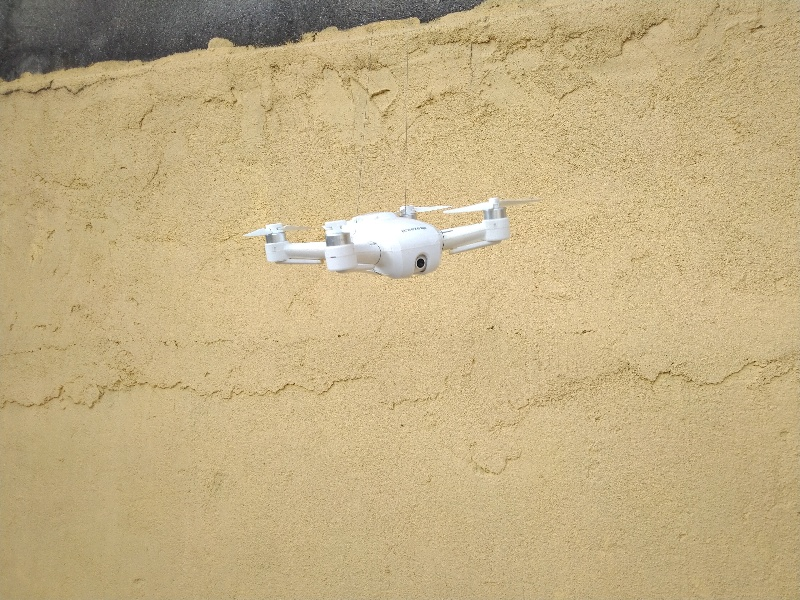drone: (250, 184, 534, 281)
